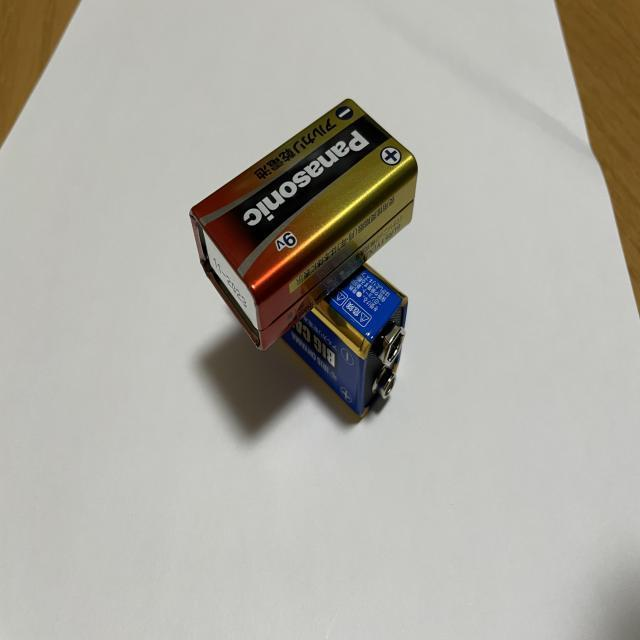9V: (189, 97, 418, 356), (282, 261, 407, 418)
